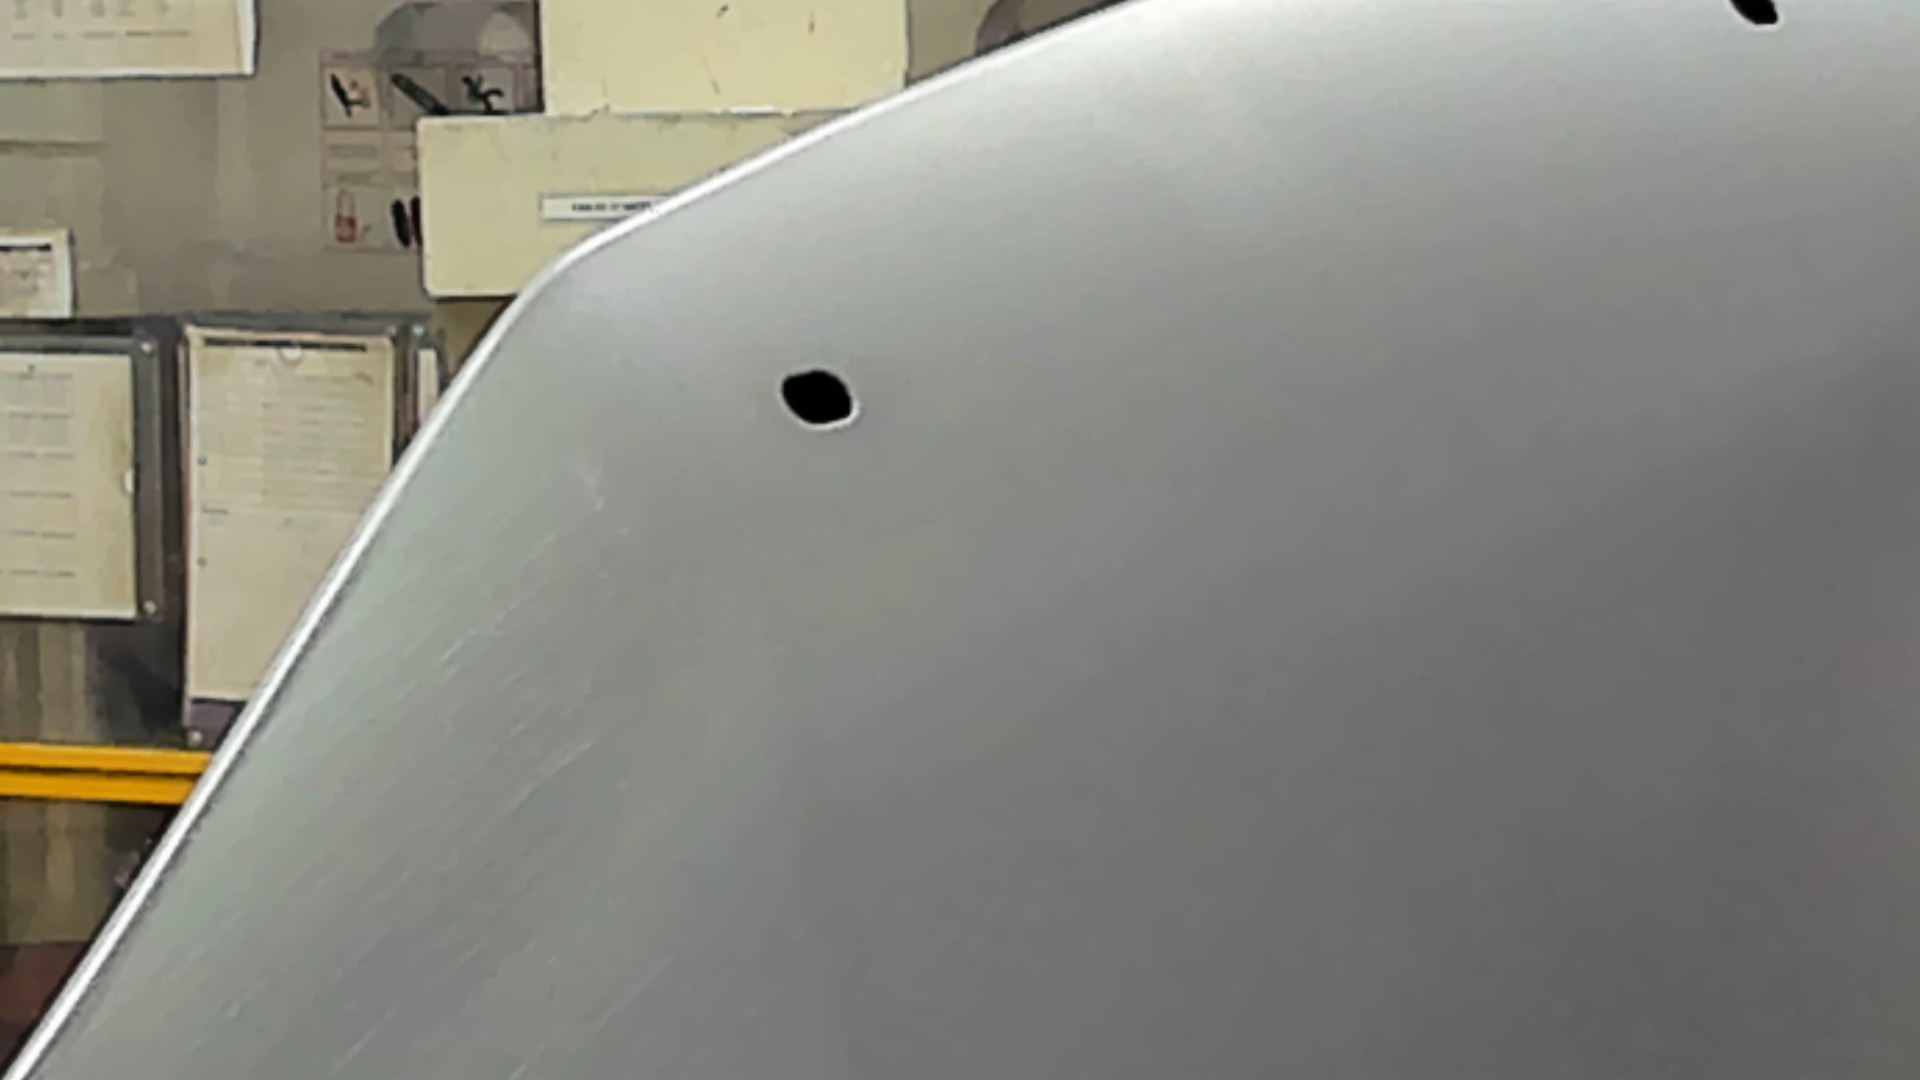amorfo: (774, 368, 861, 431), (1729, 1, 1785, 36)
